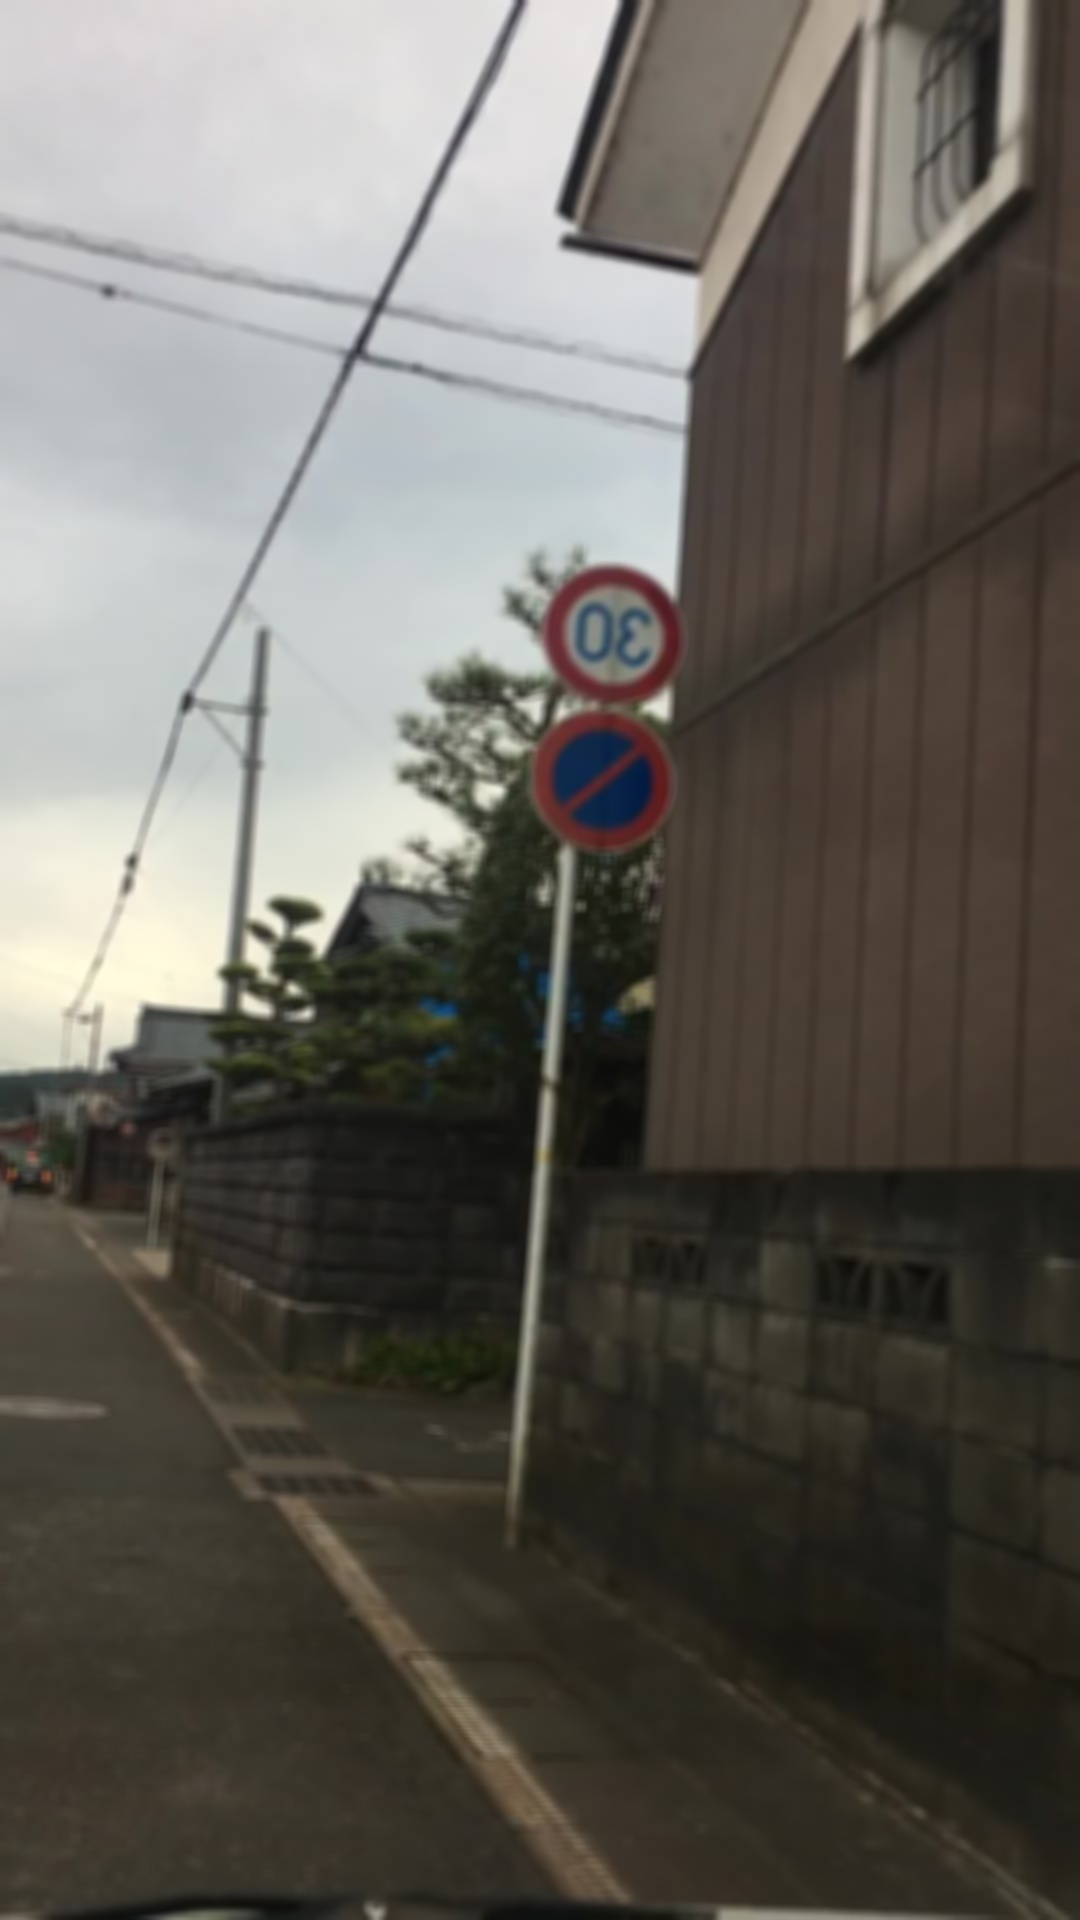Prohibition_sign: (524, 712, 686, 870)
Speed_sign: (542, 556, 708, 713)
